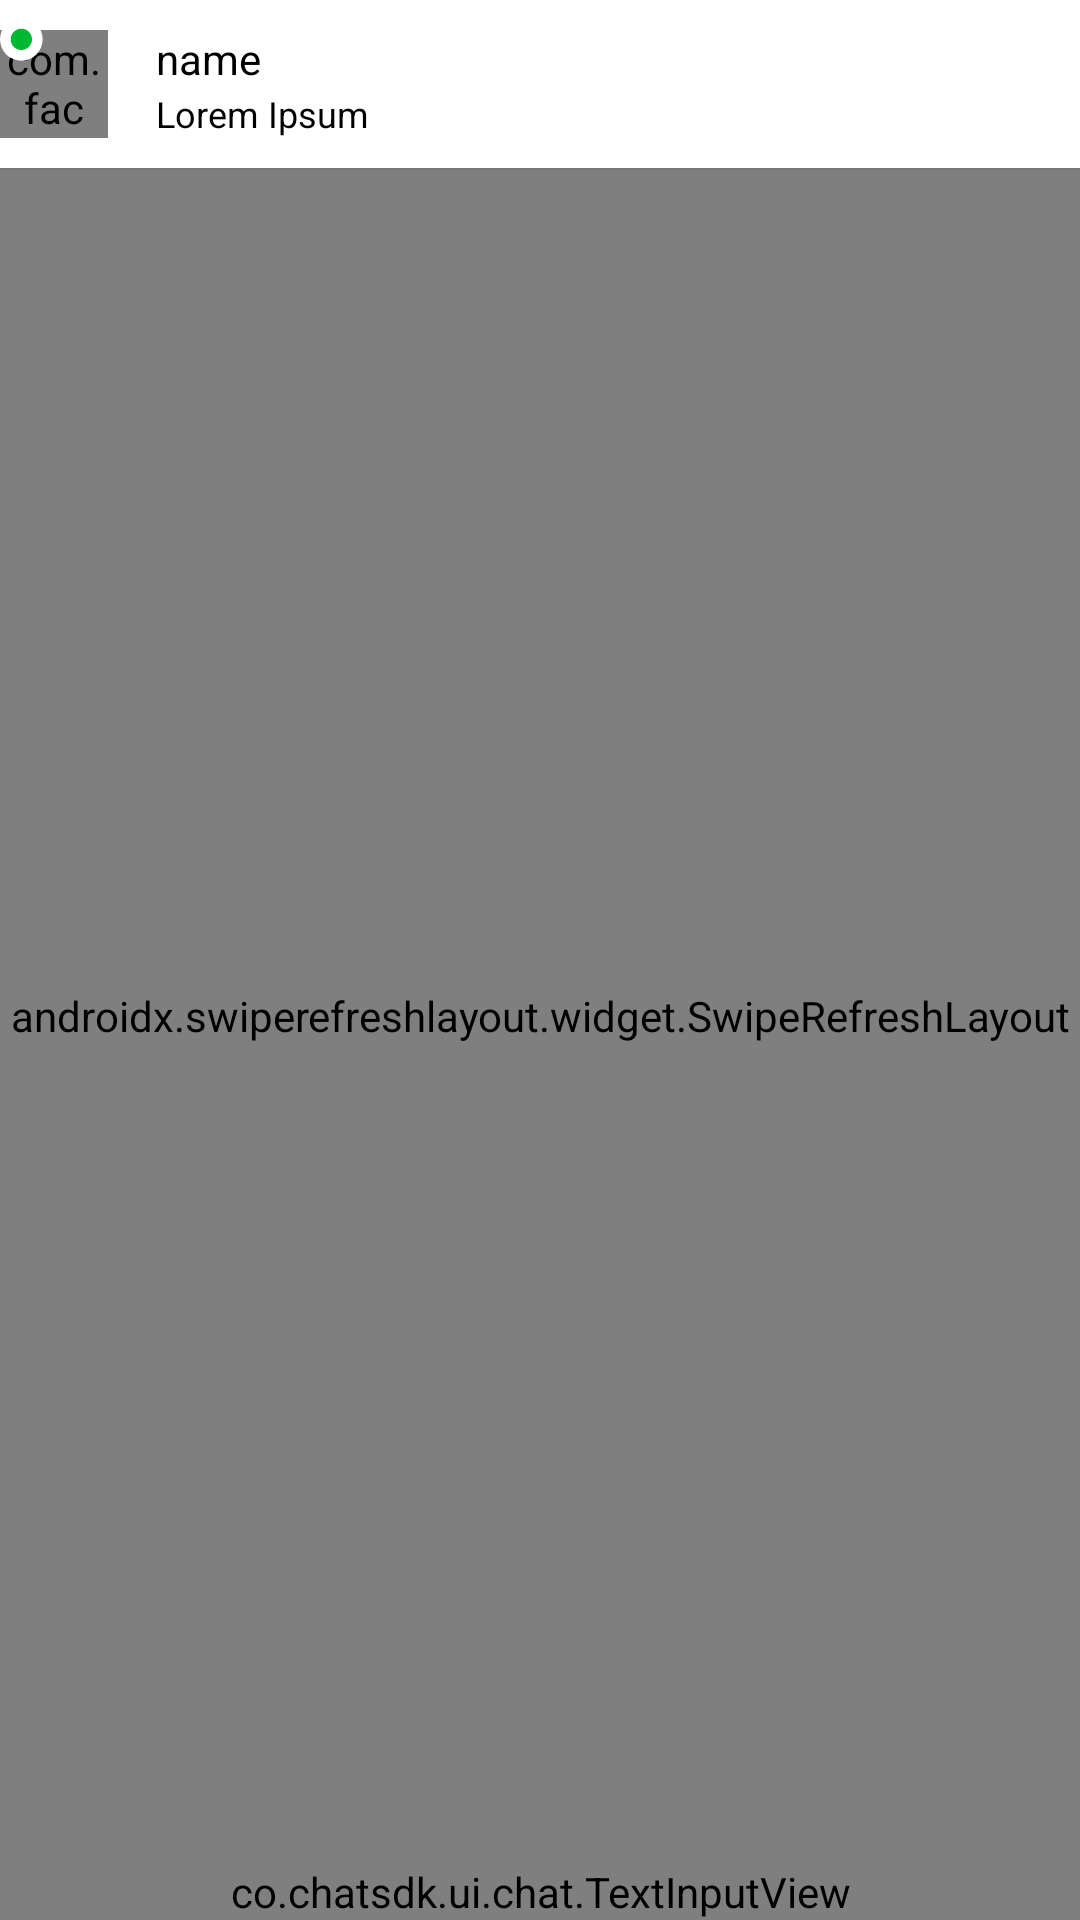

Icons on this 1080*1920 Android screen, each with the point to tap as (x=x, y=y):
online: (x=24, y=42)
